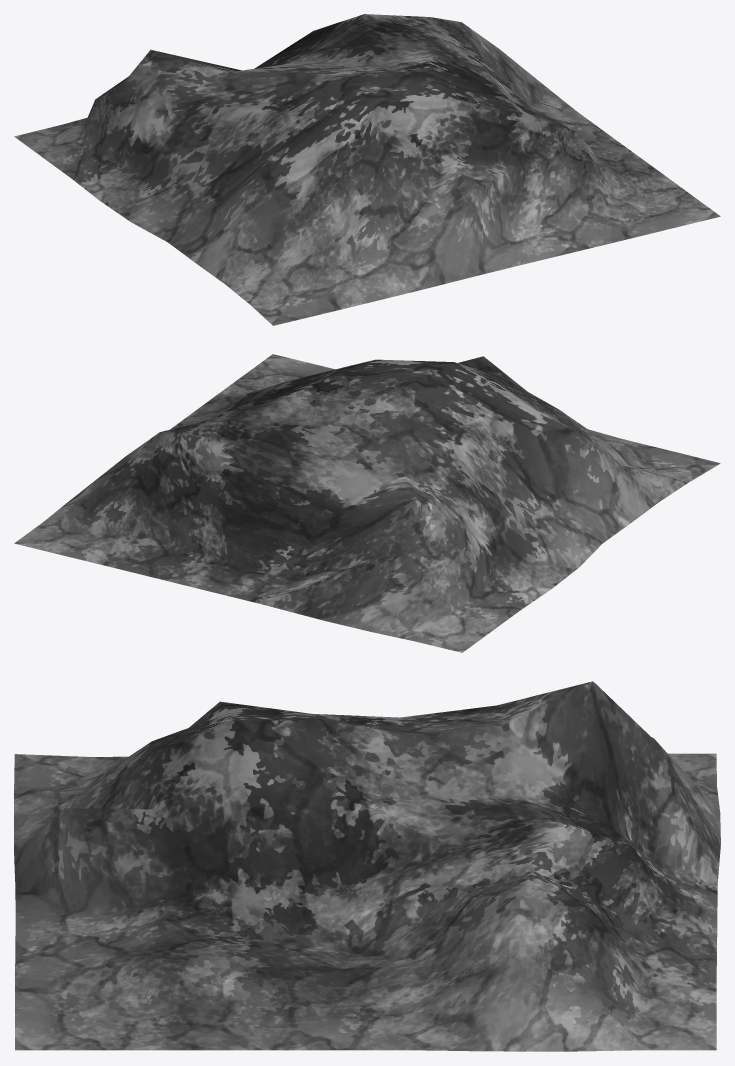
File: Rubblepile2.fbx
3 views of the same model, one above another, from view 1: azimuth 30°, elevation 25°; view 2: azimuth 150°, elevation 25°; view 3: azimuth 270°, elevation 25° (orthographic). The views are drawn at different scales.
Parts seen in each view (by area): view 1: Rubble1; view 2: Rubble1; view 3: Rubble1.
Boxes of the visible parts, x1,y1,x2,y2 form: Rubble1: (14,14,720,325); Rubble1: (14,354,720,652); Rubble1: (14,681,720,1051).
Size of the model in its own units: 1699 by 426 by 1698.
